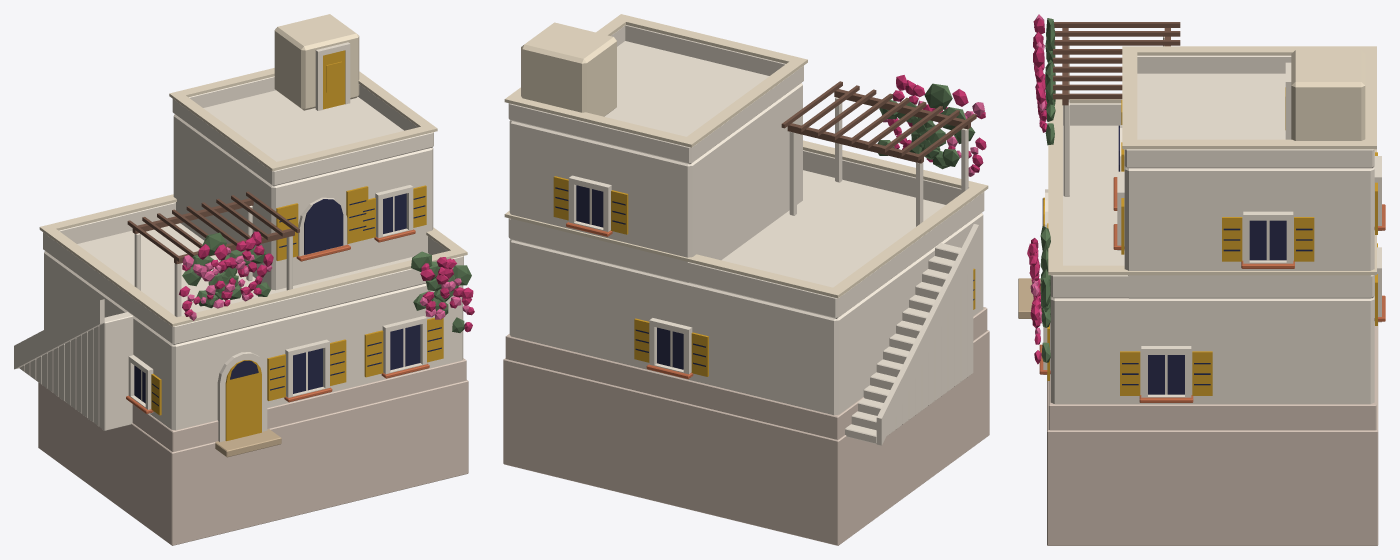
The model's file is med_cube_stack.glb.
3 views of the same model, side by side, from view 1: azimuth 30°, elevation 25°; view 2: azimuth 150°, elevation 25°; view 3: azimuth 270°, elevation 25° (orthographic). The views are drawn at different scales.
Visible parts, largest first — view 1: med_cube_stack; view 2: med_cube_stack; view 3: med_cube_stack.
Boxes of the visible parts, x1,y1,x2,y2 form: med_cube_stack: (14,14,474,545); med_cube_stack: (503,14,989,545); med_cube_stack: (1018,14,1385,545).
Size of the model in its own units: 10.28 by 10.9 by 7.94.
